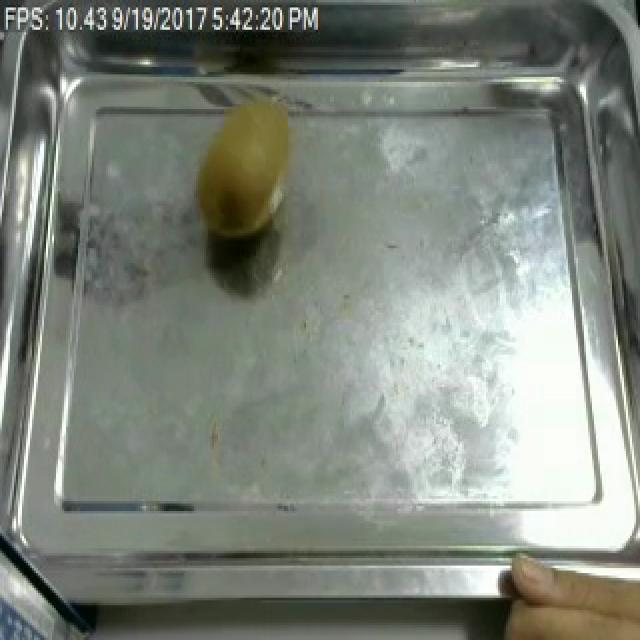Fruit: (184, 97, 306, 250), (486, 536, 640, 640)
